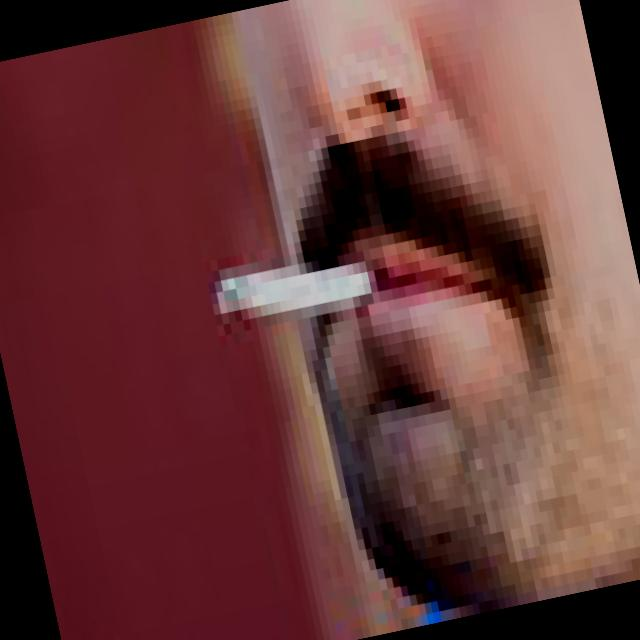cigarette: (207, 238, 389, 339)
